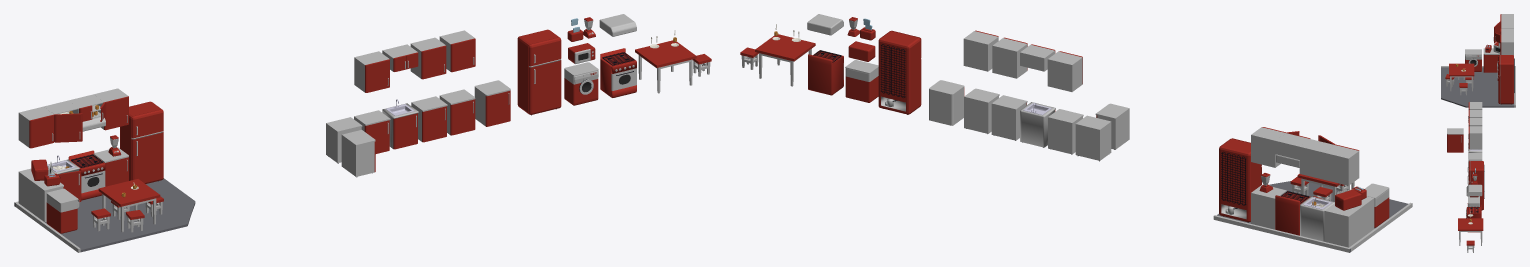
The model's file is xax.fbx.
The picture shows the model from 3 angles, left to right: view 1: azimuth 30°, elevation 25°; view 2: azimuth 150°, elevation 25°; view 3: azimuth 270°, elevation 25°; orthographic projection. The views are drawn at different scales.
Visible parts, largest first — view 1: tihnika:Plane_002_Plane_001_Material_001, tihnika:Cube_093_Cube_121_basic_1, tihnika:Cube_091_Cube_119_basic_1, tihnika:Cube_109_Cube_137_basic_2, tihnika:Cylinder_056_Cylinder_074_basic_1, tihnika:Cube_097_Cube_125_basic_1, tihnika:Cube_157_Cube_185_basic_1, tihnika:Cube_150_Cube_178_basic_1, tihnika:Cube_144_Cube_172_basic_2, tihnika:Cube_133_Cube_161_basic_1, tihnika:Cube_112_Cube_140_basic_1, tihnika:Cube_114_Cube_142_basic_1 (+31 smaller); view 2: tihnika:Cylinder_056_Cylinder_074_basic_1, tihnika:Cylinder_055_Cylinder_073_basic_1, tihnika:Cube_144_Cube_172_basic_2, tihnika:Cube_113_Cube_141_basic_2, tihnika:Cube_097_Cube_125_basic_1, tihnika:Cube_141_Cube_169_basic_2, tihnika:Cube_120_Cube_148_basic_2, tihnika:Cube_137_Cube_165_basic_2, tihnika:Cube_124_Cube_152_basic_2, tihnika:Cube_111_Cube_139_basic_2, tihnika:Cube_142_Cube_170_basic_2, tihnika:Plane_002_Plane_001_basic_2 (+22 smaller); view 3: tihnika:Plane_002_Plane_001_Material_001, tihnika:Cylinder_055_Cylinder_073_basic_1, tihnika:Cube_157_Cube_185_basic_1, tihnika:Cylinder_056_Cylinder_074_basic_1, tihnika:Cube_122_Cube_150_basic_2, tihnika:Cube_150_Cube_178_basic_1, tihnika:Cube_110_Cube_138_basic_1, tihnika:Cube_127_Cube_155_basic_1, tihnika:Cube_139_Cube_167_basic_2, tihnika:Cube_155_Cube_183_basic_2, tihnika:Cube_097_Cube_125_basic_1, tihnika:Cube_088_Cube_116_basic_2 (+16 smaller).
Boxes of the visible parts, x1,y1,x2,y2 form: tihnika:Plane_002_Plane_001_Material_001: [14, 178, 195, 252]; tihnika:Cube_093_Cube_121_basic_1: [528, 60, 561, 114]; tihnika:Cube_091_Cube_119_basic_1: [131, 131, 163, 183]; tihnika:Cube_109_Cube_137_basic_2: [341, 130, 375, 176]; tihnika:Cylinder_056_Cylinder_074_basic_1: [517, 29, 559, 113]; tihnika:Cube_097_Cube_125_basic_1: [600, 48, 636, 97]; tihnika:Cube_157_Cube_185_basic_1: [98, 179, 160, 206]; tihnika:Cube_150_Cube_178_basic_1: [635, 40, 696, 67]; tihnika:Cube_144_Cube_172_basic_2: [326, 117, 362, 163]; tihnika:Cube_133_Cube_161_basic_1: [54, 113, 82, 142]; tihnika:Cube_112_Cube_140_basic_1: [450, 99, 475, 135]; tihnika:Cube_114_Cube_142_basic_1: [485, 90, 510, 126]; tihnika:Cylinder_056_Cylinder_074_basic_1: [878, 31, 920, 114]; tihnika:Cylinder_055_Cylinder_073_basic_1: [1219, 138, 1261, 222]; tihnika:Cube_144_Cube_172_basic_2: [1075, 115, 1111, 160]; tihnika:Cube_113_Cube_141_basic_2: [929, 80, 964, 125]; tihnika:Cube_097_Cube_125_basic_1: [808, 50, 843, 95]; tihnika:Cube_141_Cube_169_basic_2: [1324, 203, 1360, 247]; tihnika:Cube_120_Cube_148_basic_2: [1047, 51, 1082, 91]; tihnika:Cube_137_Cube_165_basic_2: [1324, 145, 1359, 185]; tihnika:Cube_124_Cube_152_basic_2: [991, 95, 1027, 140]; tihnika:Cube_111_Cube_139_basic_2: [964, 88, 999, 133]; tihnika:Cube_142_Cube_170_basic_2: [1048, 109, 1083, 154]; tihnika:Plane_002_Plane_001_basic_2: [1213, 202, 1412, 252]; tihnika:Plane_002_Plane_001_Material_001: [1441, 67, 1514, 107]; tihnika:Cylinder_055_Cylinder_073_basic_1: [1500, 55, 1513, 104]; tihnika:Cube_157_Cube_185_basic_1: [1449, 63, 1474, 76]; tihnika:Cylinder_056_Cylinder_074_basic_1: [1470, 161, 1483, 210]; tihnika:Cube_122_Cube_150_basic_2: [1469, 126, 1482, 149]; tihnika:Cube_150_Cube_178_basic_1: [1458, 218, 1483, 230]; tihnika:Cube_110_Cube_138_basic_1: [1447, 134, 1463, 152]; tihnika:Cube_127_Cube_155_basic_1: [1483, 54, 1498, 72]; tihnika:Cube_139_Cube_167_basic_2: [1501, 35, 1513, 55]; tihnika:Cube_155_Cube_183_basic_2: [1466, 184, 1482, 196]; tihnika:Cube_097_Cube_125_basic_1: [1466, 205, 1481, 232]; tihnika:Cube_088_Cube_116_basic_2: [1465, 49, 1481, 59].
Size of the model in its own units: 3.04 by 0.4174 by 0.5143.
